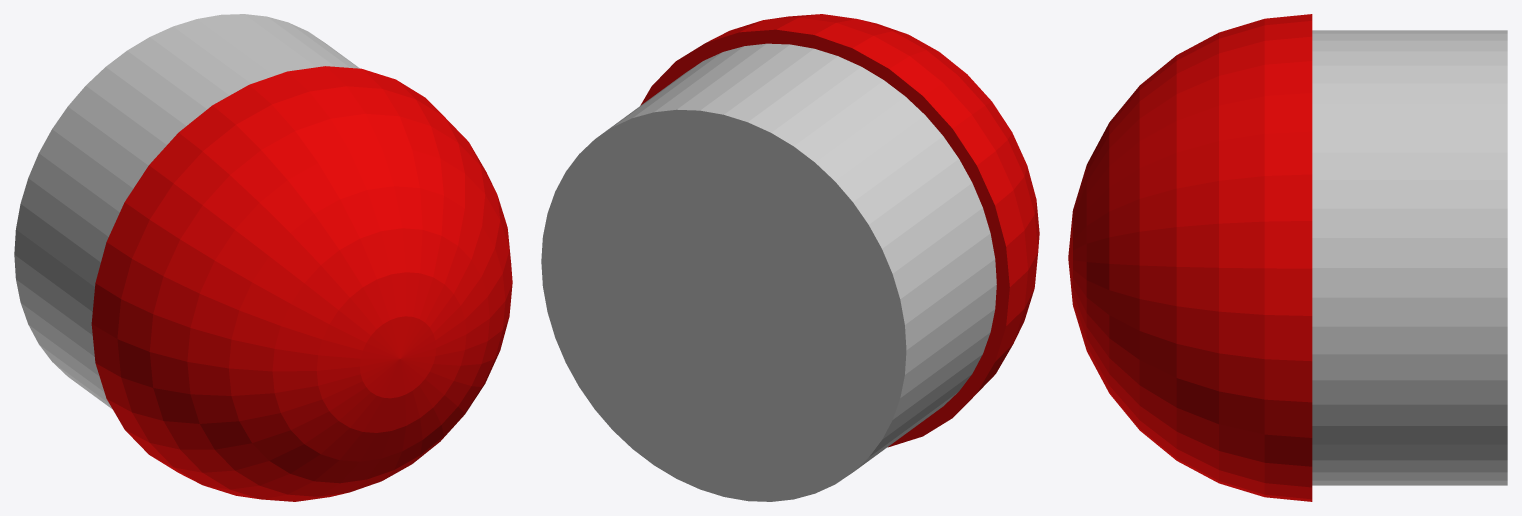
File: aviation_light_ok.obj
The picture shows the model from 3 angles, left to right: view 1: azimuth 30°, elevation 25°; view 2: azimuth 150°, elevation 25°; view 3: azimuth 270°, elevation 25°; orthographic projection. The views are drawn at different scales.
Parts seen in each view (by area): view 1: aviation_light_ok; view 2: aviation_light_ok; view 3: aviation_light_ok.
Boxes of the visible parts, x1=… form: aviation_light_ok: x1=14, y1=14, x2=512, y2=501; aviation_light_ok: x1=541, y1=14, x2=1039, y2=501; aviation_light_ok: x1=1068, y1=14, x2=1507, y2=501.
Bounding box in the file's own units: 0.15 × 0.15 × 0.135.
